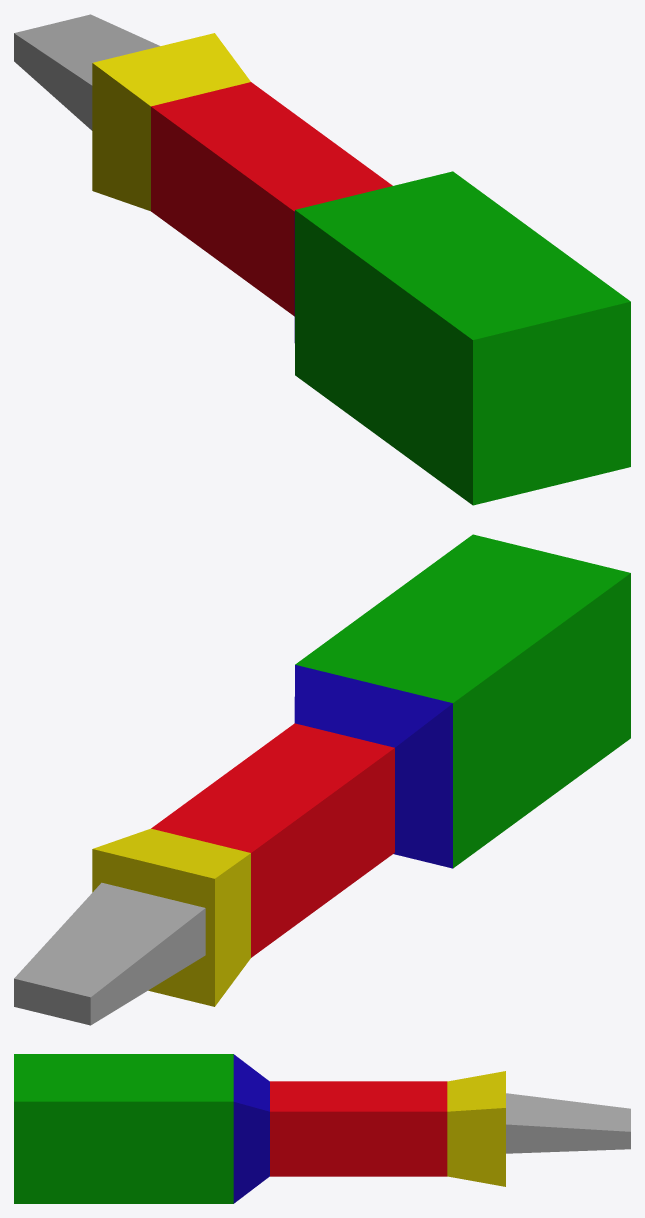
File: otvertka.fbx
The picture shows the model from 3 angles, top to bottom: view 1: azimuth 30°, elevation 25°; view 2: azimuth 150°, elevation 25°; view 3: azimuth 270°, elevation 25°; orthographic projection. The views are drawn at different scales.
Parts seen in each view (by area): view 1: Cube; view 2: Cube; view 3: Cube.
Part boxes in pixels (bbox=[...]): Cube: bbox=[14, 14, 630, 505]; Cube: bbox=[14, 534, 630, 1025]; Cube: bbox=[14, 1054, 630, 1203].
Size of the model in its own units: 200 by 200 by 1095.
